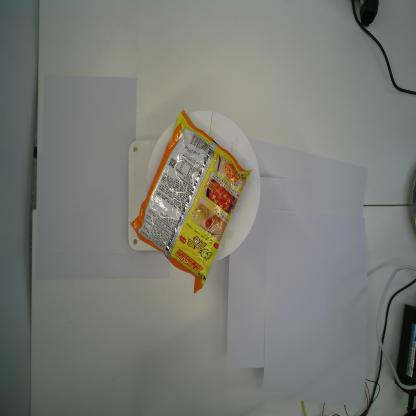Instant Noodles: (128, 108, 254, 296)
